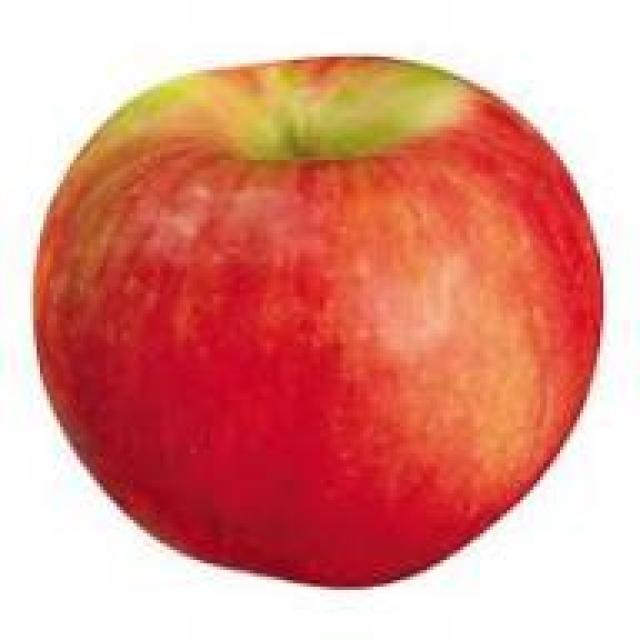apple: (34, 50, 594, 590)
